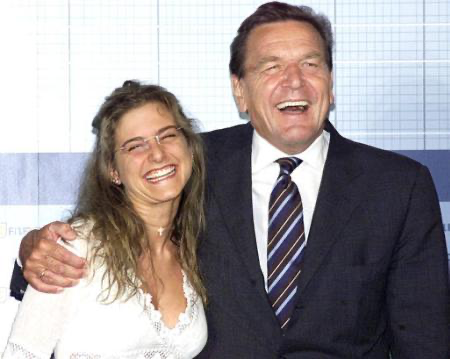Face: (240, 42, 343, 150), (107, 119, 196, 208)
